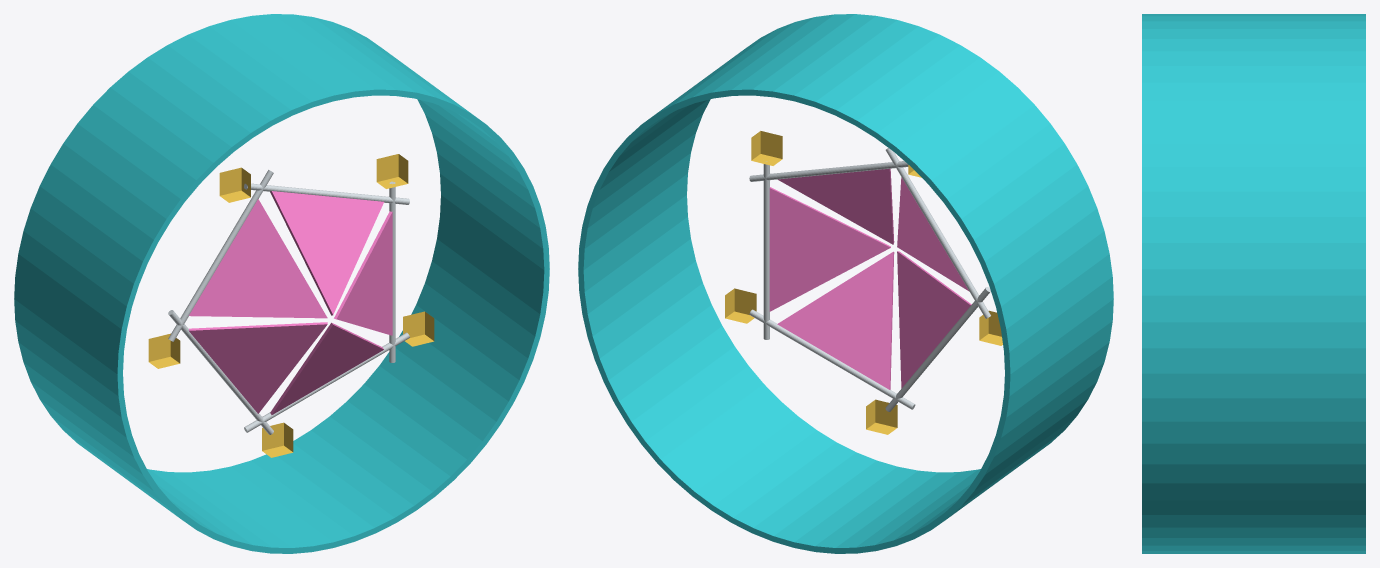
Rendered from a0-lantern-hinge-actuator-housing-prototype-2026-10-29.glb.
3 views of the same model, side by side, from view 1: azimuth 30°, elevation 25°; view 2: azimuth 150°, elevation 25°; view 3: azimuth 270°, elevation 25° (orthographic). The views are drawn at different scales.
Parts seen in each view (by area): view 1: Lantern Crown Engineering Prototype; view 2: Lantern Crown Engineering Prototype; view 3: Lantern Crown Engineering Prototype.
Boxes of the visible parts, x1=… form: Lantern Crown Engineering Prototype: x1=14, y1=14, x2=549, y2=553; Lantern Crown Engineering Prototype: x1=578, y1=14, x2=1113, y2=553; Lantern Crown Engineering Prototype: x1=1142, y1=14, x2=1365, y2=553.
Size of the model in its own units: 0.314 by 0.314 by 0.13.
